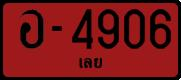letters: (18, 9, 45, 49), (69, 9, 95, 50), (122, 8, 146, 51), (96, 8, 120, 50), (148, 8, 172, 50)
province: (75, 56, 104, 70)
